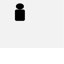human: (12, 1, 27, 22)
